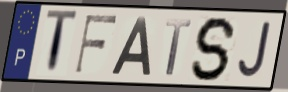A: (108, 15, 152, 77)
F: (72, 13, 120, 76)
J: (236, 20, 273, 81)
S: (189, 15, 239, 83)
T: (44, 8, 80, 78), (164, 18, 193, 77)
